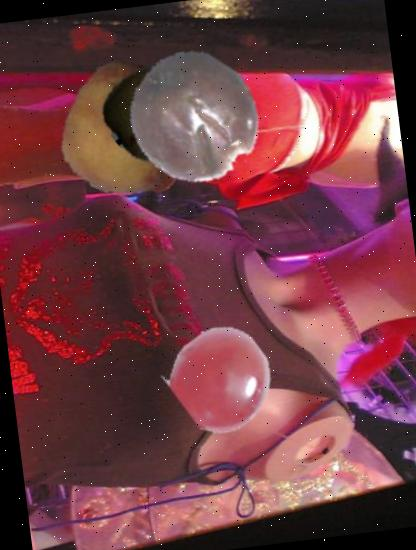Passion: (120, 44, 272, 196)
Peach: (52, 56, 199, 204)
Pear: (98, 41, 230, 174)
Redcurrant: (164, 321, 280, 436)
